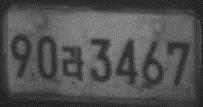0: (37, 35, 58, 80)
3: (90, 37, 112, 83)
4: (115, 38, 138, 85)
6: (141, 41, 165, 85)
7: (167, 41, 190, 87)
9: (10, 33, 33, 79)
라: (61, 46, 84, 83)
